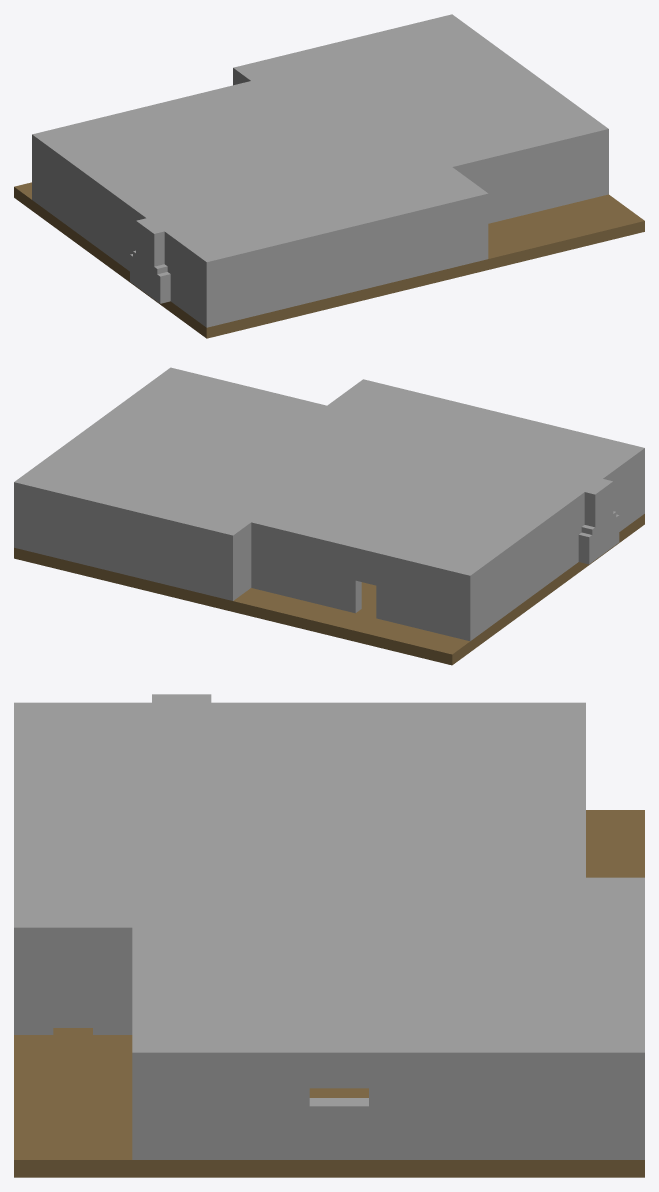
Rendered from house.fbx.
3 views of the same model, one above another, from view 1: azimuth 30°, elevation 25°; view 2: azimuth 150°, elevation 25°; view 3: azimuth 270°, elevation 25° (orthographic). The views are drawn at different scales.
Visible parts, largest first — view 1: pCube36, pCube38, pCube1, Ground, pCube10, pCube15, pCube37, pCube39, pCube11, Exterior_Shute, pCube14, pCube13 (+1 smaller); view 2: pCube36, pCube38, pCube11, pCube13, Ground, pCube10, pCube37, pCube14, pCube39, pCube12, Exterior_Shute, pCube1 (+2 smaller); view 3: pCube36, pCube38, pCube14, Ground, pCube9, pCube37, pCube1, pCube39, pCube10, pCube11, pCube13, pCube15 (+2 smaller).
Part boxes in pixels (box(x1,y1,x2,y2)): pCube36: box(49, 88, 408, 255); pCube38: box(247, 34, 591, 180); pCube1: box(200, 191, 488, 327); Ground: box(14, 182, 644, 338); pCube10: box(32, 132, 217, 326); pCube15: box(447, 127, 608, 223); pCube37: box(250, 21, 465, 82); pCube39: box(373, 165, 471, 206); pCube11: box(32, 78, 267, 203); Exterior_Shute: box(136, 218, 164, 298); pCube14: box(442, 14, 608, 131); pCube13: box(233, 17, 447, 84); pCube36: box(268, 401, 628, 568); pCube38: box(49, 374, 393, 520); pCube11: box(241, 515, 476, 641); pCube13: box(24, 480, 238, 600); Ground: box(14, 514, 644, 665); pCube10: box(461, 445, 644, 636); pCube37: box(31, 467, 246, 528); pCube14: box(14, 367, 180, 549); pCube39: box(332, 386, 429, 427); pCube12: box(222, 520, 251, 600); Exterior_Shute: box(584, 479, 613, 559); pCube1: box(367, 382, 644, 511); pCube36: box(33, 711, 565, 869); pCube38: box(152, 869, 565, 1044); pCube14: box(132, 1044, 644, 1159); Ground: box(14, 810, 644, 1177); pCube9: box(14, 919, 151, 1034); pCube37: box(566, 886, 625, 1044); pCube1: box(14, 707, 33, 1034); pCube39: box(33, 869, 151, 919); pCube10: box(14, 702, 585, 710); pCube11: box(566, 702, 585, 885); pCube13: box(625, 877, 644, 1150); pCube15: box(132, 927, 151, 1159).
Size of the model in its own units: 43 by 7 by 32.
